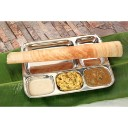dosa: (4, 40, 128, 66)
